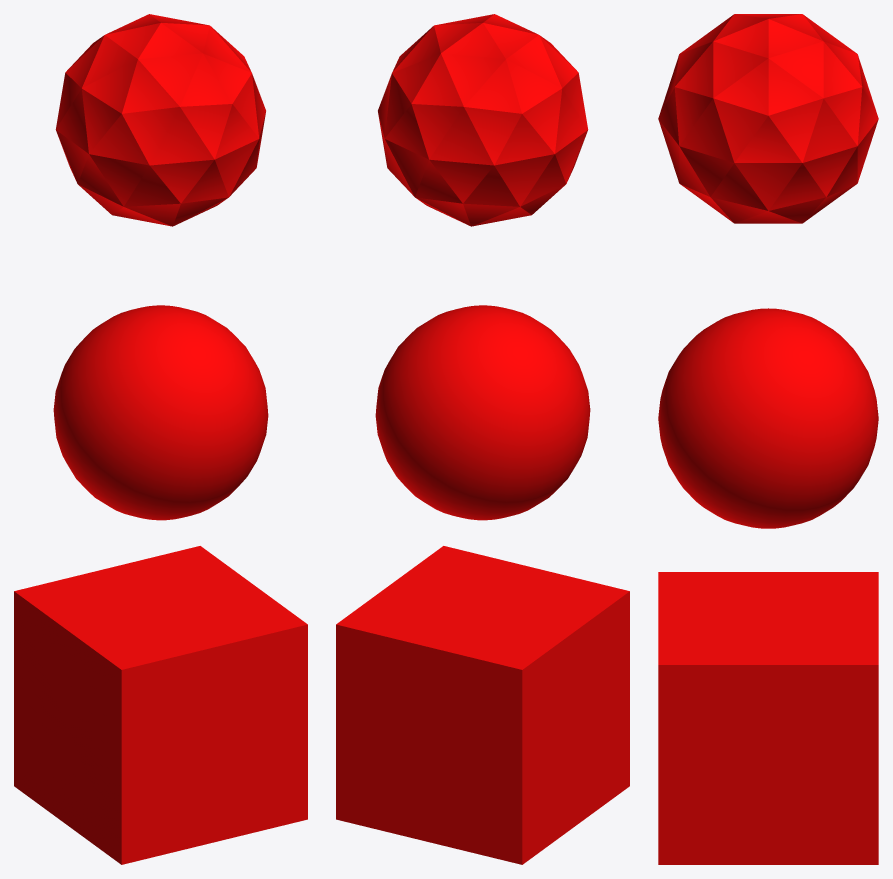
File: MMD Material Test Morph.fbx
3 renders of one model, left to right at view 1: azimuth 30°, elevation 25°; view 2: azimuth 150°, elevation 25°; view 3: azimuth 270°, elevation 25°, orthographic. The views are drawn at different scales.
Parts seen in each view (by area): view 1: U_Char_Morph; view 2: U_Char_Morph; view 3: U_Char_Morph.
Part boxes in pixels (left/top/right/bottom): U_Char_Morph: left=14, top=14, right=307, bottom=864; U_Char_Morph: left=336, top=14, right=629, bottom=864; U_Char_Morph: left=658, top=14, right=878, bottom=864.
Bounding box in the file's own units: 200 × 800 × 200.
